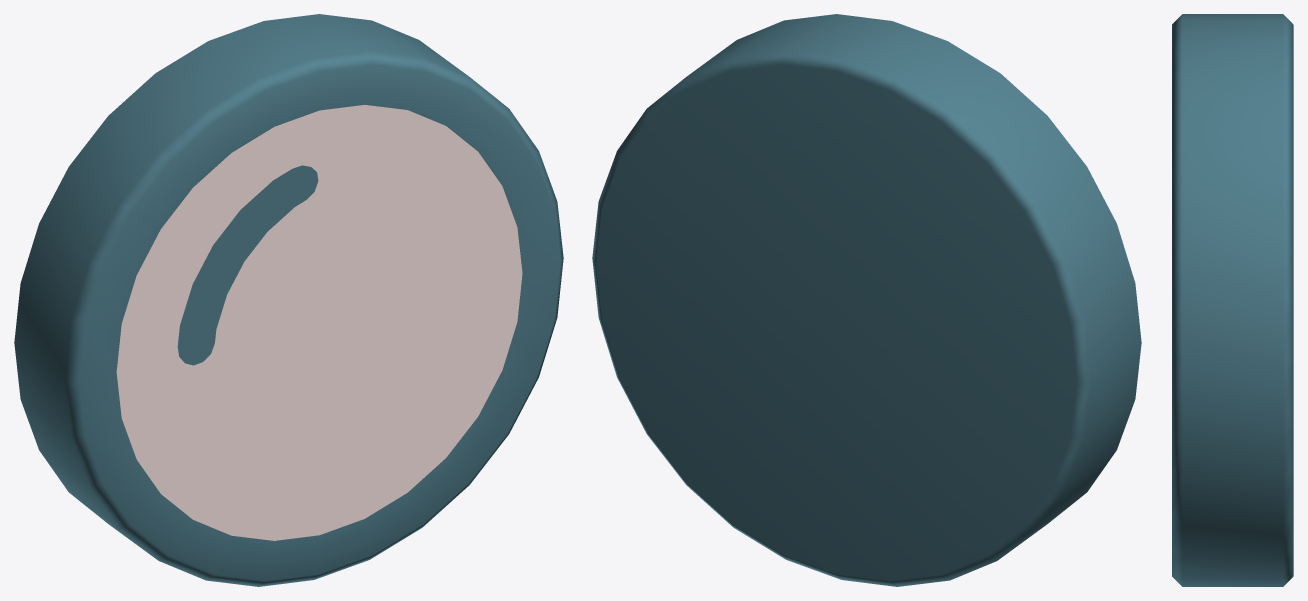
File: Public_13_Bubble_Clean_2.glb
The picture shows the model from 3 angles, left to right: view 1: azimuth 30°, elevation 25°; view 2: azimuth 150°, elevation 25°; view 3: azimuth 270°, elevation 25°; orthographic projection.
Parts seen in each view (by area): view 1: Public_13_Bubble_Clean_2; view 2: Public_13_Bubble_Clean_2; view 3: Public_13_Bubble_Clean_2.
Boxes of the visible parts, <box> form: Public_13_Bubble_Clean_2: <box>14,14,563,586</box>; Public_13_Bubble_Clean_2: <box>592,14,1141,586</box>; Public_13_Bubble_Clean_2: <box>1172,14,1293,586</box>.
Bounding box in the file's own units: 0.6194 × 0.6194 × 0.1331.
Materials: 1 (1 with a texture image).
